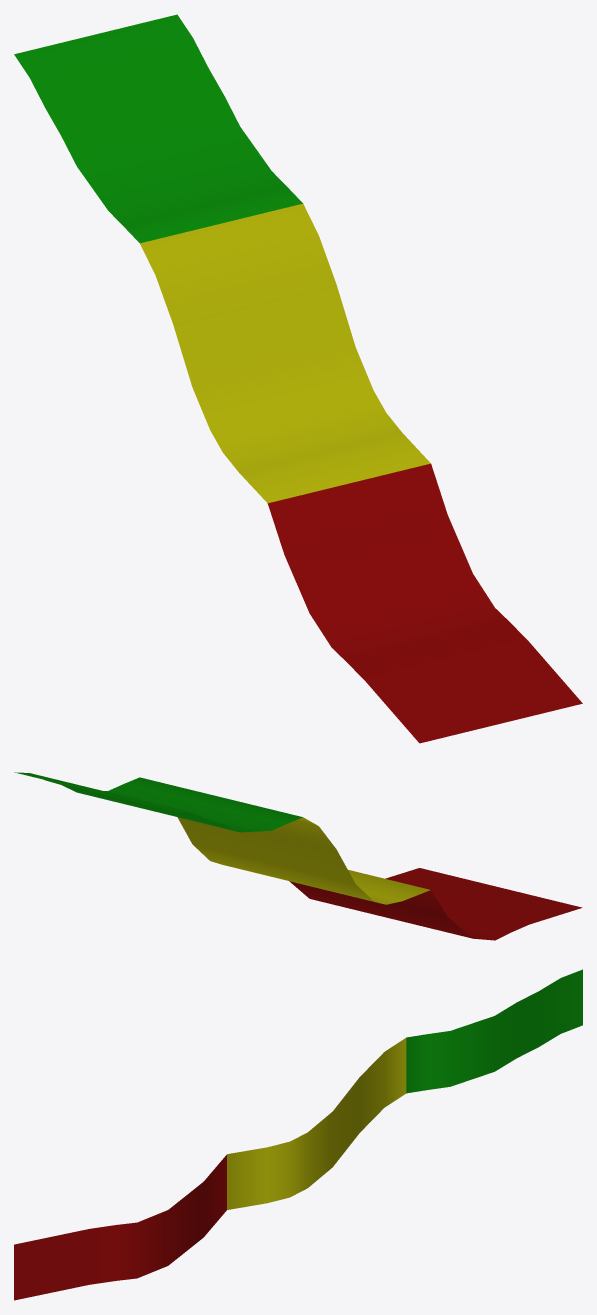
Rendered from slope.fbx.
3 views of the same model, one above another, from view 1: azimuth 30°, elevation 25°; view 2: azimuth 150°, elevation 25°; view 3: azimuth 270°, elevation 25° (orthographic). The views are drawn at different scales.
Visible parts, largest first — view 1: slope; view 2: slope; view 3: slope.
Part boxes in pixels (x1,y1,x2,y2): slope: (14, 14, 582, 743); slope: (14, 772, 582, 940); slope: (14, 969, 582, 1300).
Bounding box in the file's own units: 1000 × 2294 × 4298.
